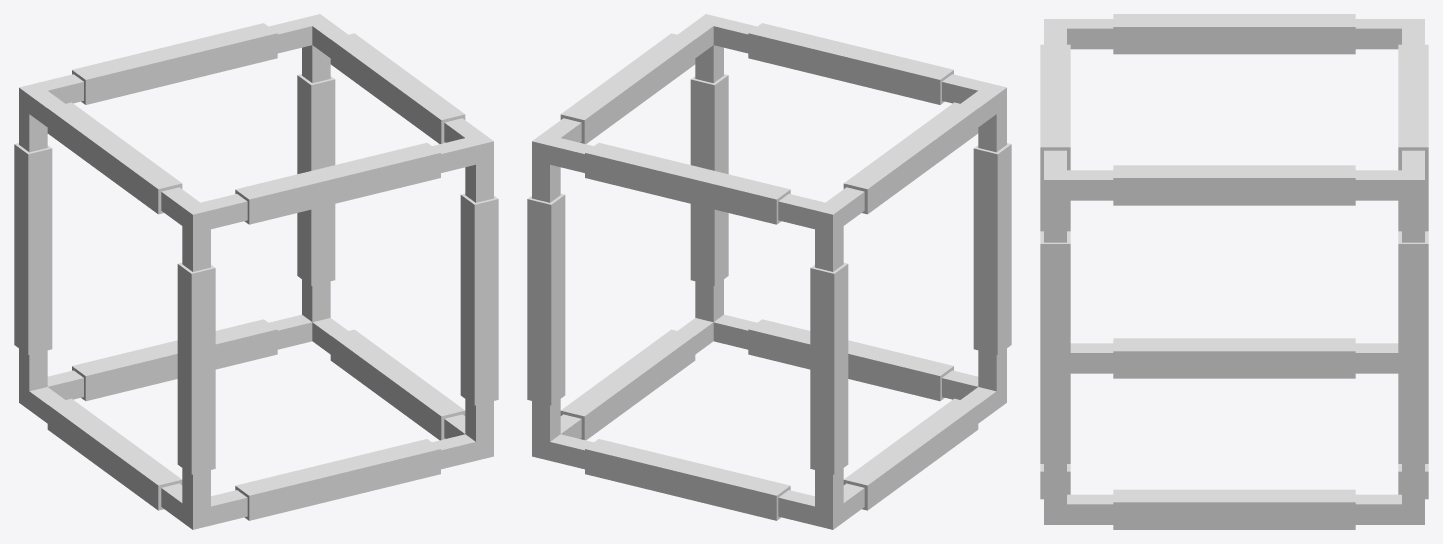
Rendered from ModularFrame.fbx.
3 renders of one model, left to right at view 1: azimuth 30°, elevation 25°; view 2: azimuth 150°, elevation 25°; view 3: azimuth 270°, elevation 25°, orthographic. The views are drawn at different scales.
Visible parts, largest first — view 1: ModularFrame; view 2: ModularFrame; view 3: ModularFrame.
Part boxes in pixels (box(x1,y1,x2,y2)): ModularFrame: box(14, 14, 498, 529); ModularFrame: box(527, 14, 1011, 529); ModularFrame: box(1040, 14, 1428, 529).
Bounding box in the file's own units: 71.5 × 71.5 × 71.5.
